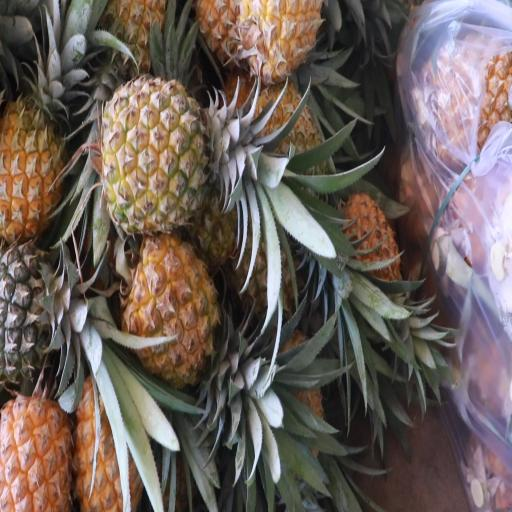Pineapple - v8 v1: (100, 78, 264, 228), (128, 234, 234, 417), (0, 58, 86, 241), (71, 348, 143, 512), (0, 385, 73, 512)
